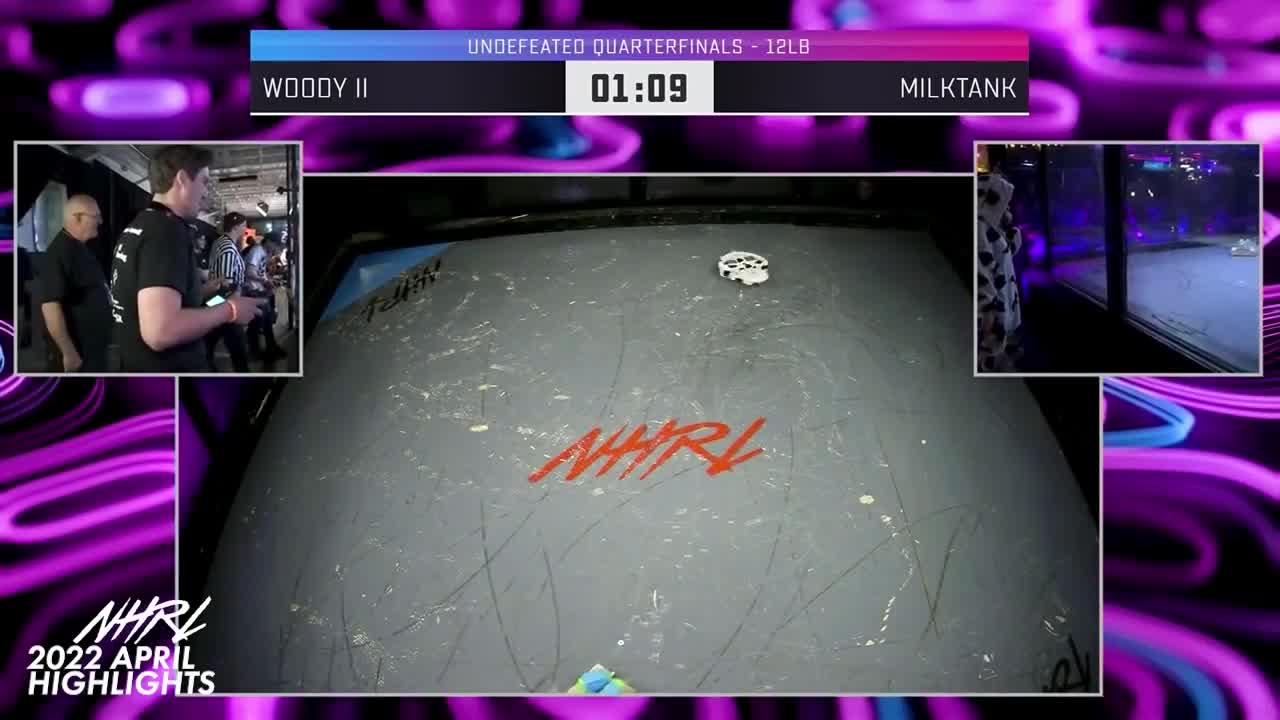combatbot: (716, 252, 772, 287)
